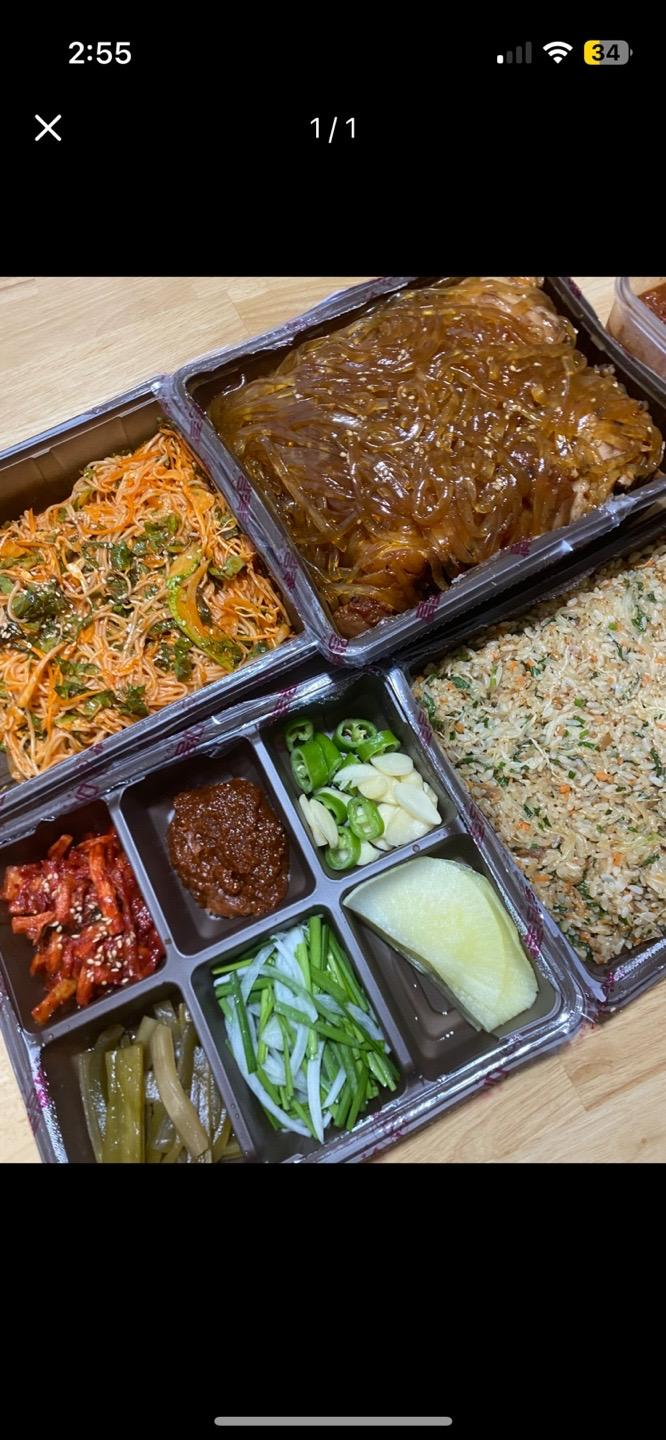Lunch Box: (0, 669, 582, 1163), (170, 278, 665, 665), (0, 380, 316, 820), (393, 498, 665, 1009)
